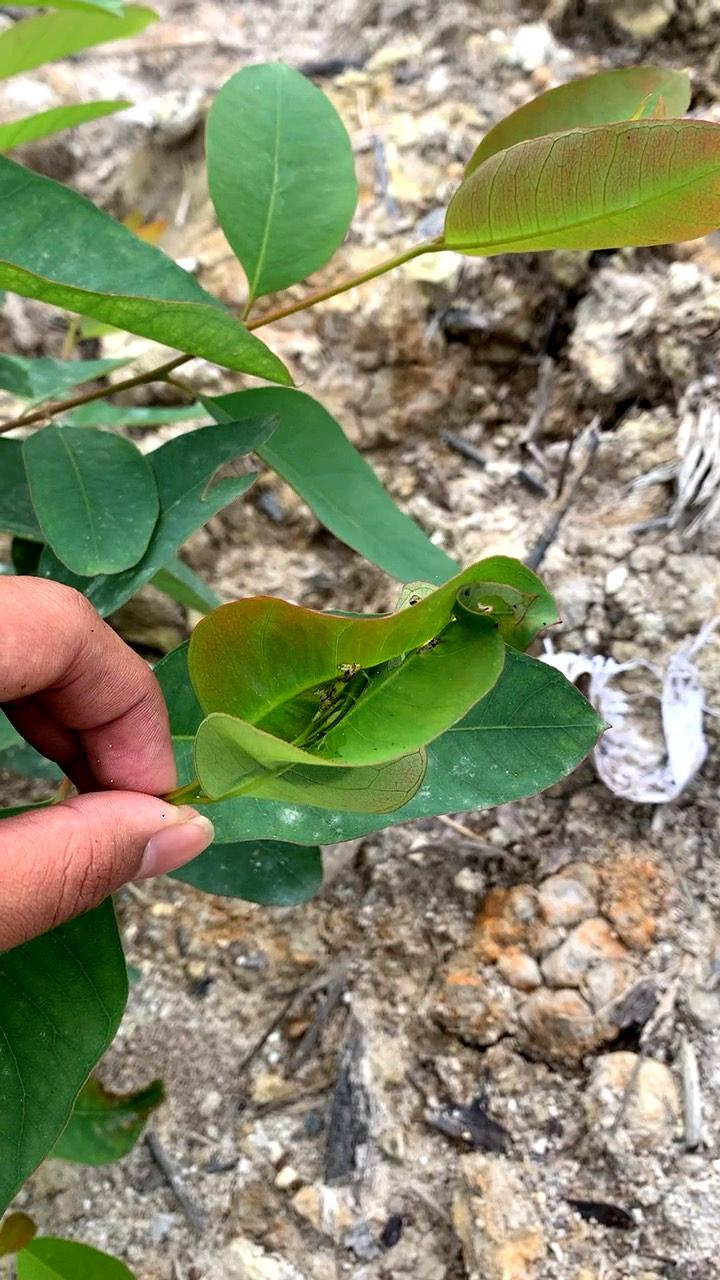Leaf Roller - Leaf: (115, 533, 596, 826)
